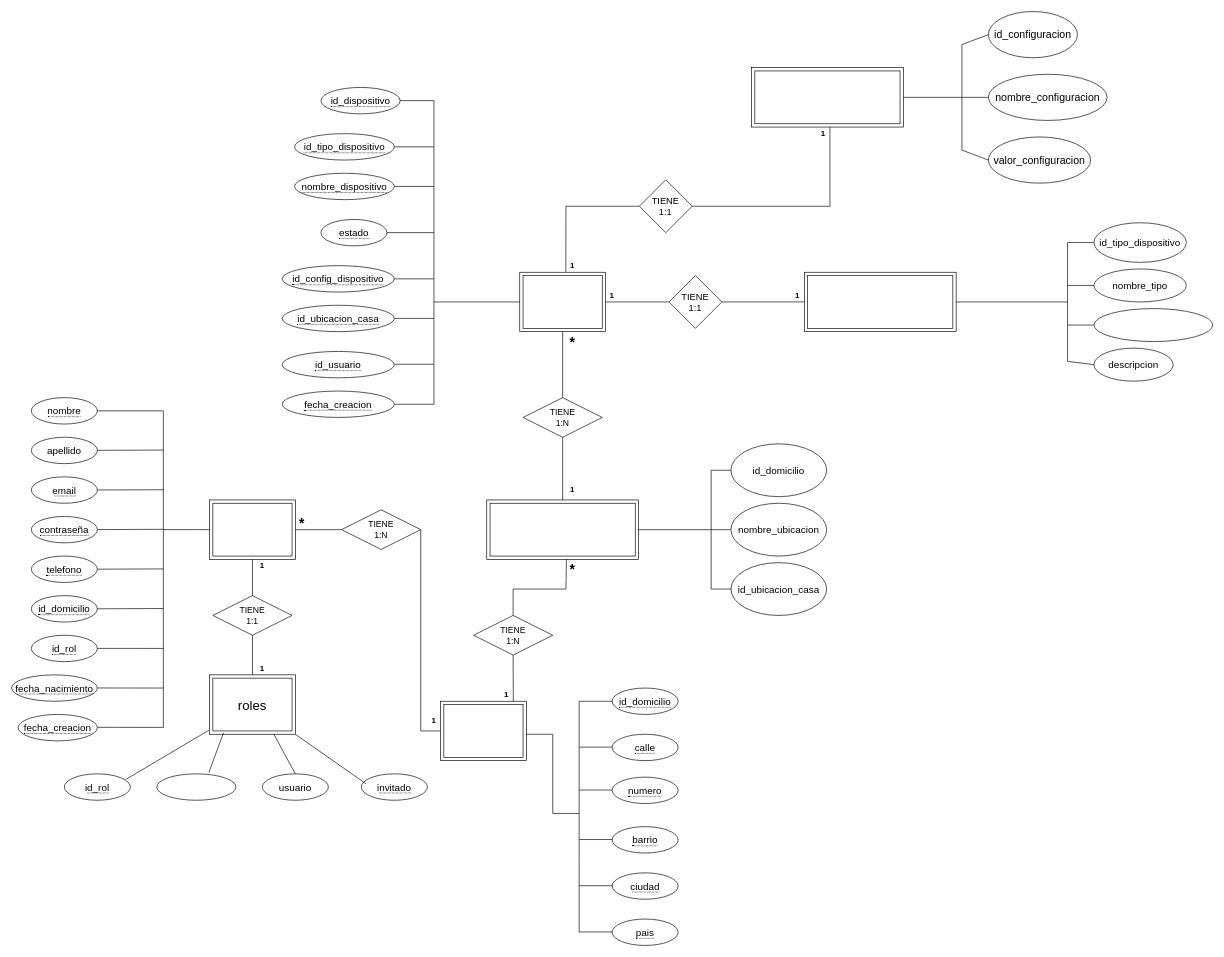
Some shapes in this 1224 by 957 pixel diagram are drawn without their labels. Each missing label, with the box of its shape:
administrador: (156, 773, 236, 800)
config_dispositivos: (751, 67, 903, 127)
dispositivos: (519, 272, 606, 332)
domicilios: (440, 701, 526, 761)
permite_configuracion: (1093, 308, 1213, 342)
tipos_dispositivos: (804, 272, 956, 332)
ubicaciones_casa: (486, 499, 639, 559)
usuarios: (209, 499, 295, 559)
